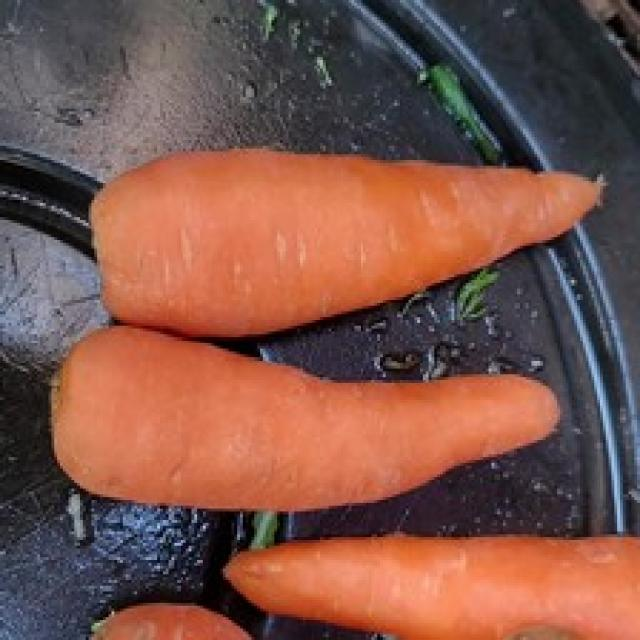Fresh_Carrot: (59, 315, 571, 510), (86, 147, 597, 335), (226, 531, 640, 640)
